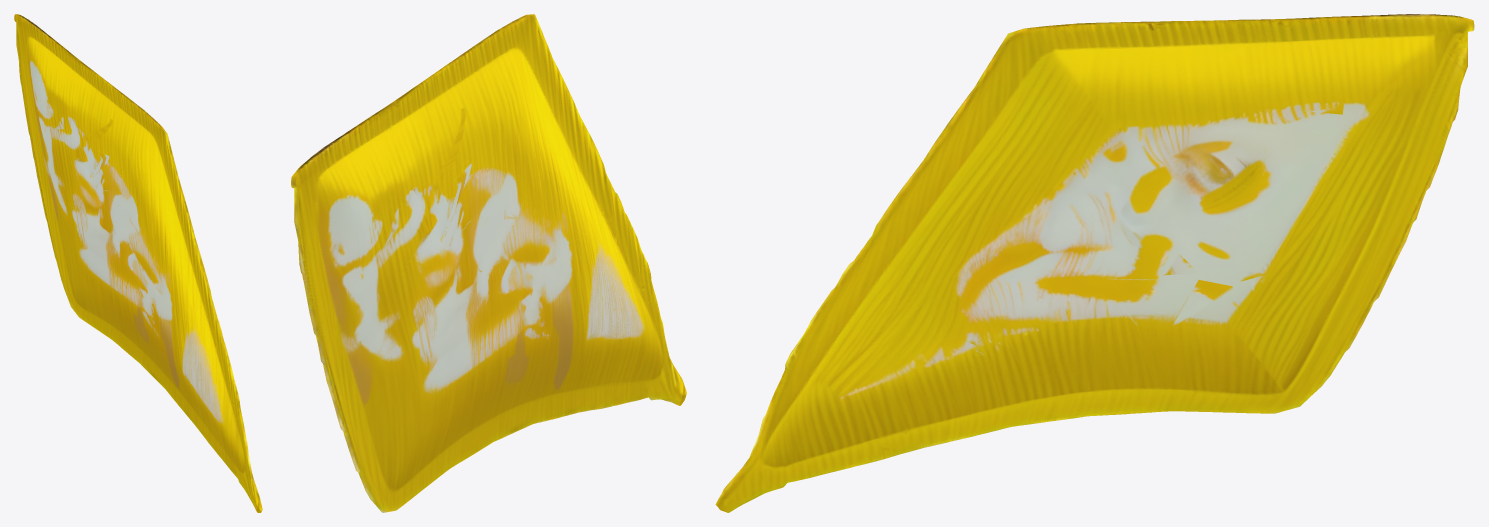
The model's file is base_basic_shaded.fbx.
The picture shows the model from 3 angles, left to right: view 1: azimuth 30°, elevation 25°; view 2: azimuth 150°, elevation 25°; view 3: azimuth 270°, elevation 25°; orthographic projection. The views are drawn at different scales.
Parts seen in each view (by area): view 1: model; view 2: model; view 3: model.
Part boxes in pixels (bbox=[...]): model: bbox=[14, 14, 262, 512]; model: bbox=[291, 14, 686, 512]; model: bbox=[715, 14, 1474, 512].
Size of the model in its own units: 7.27 by 126 by 173.
